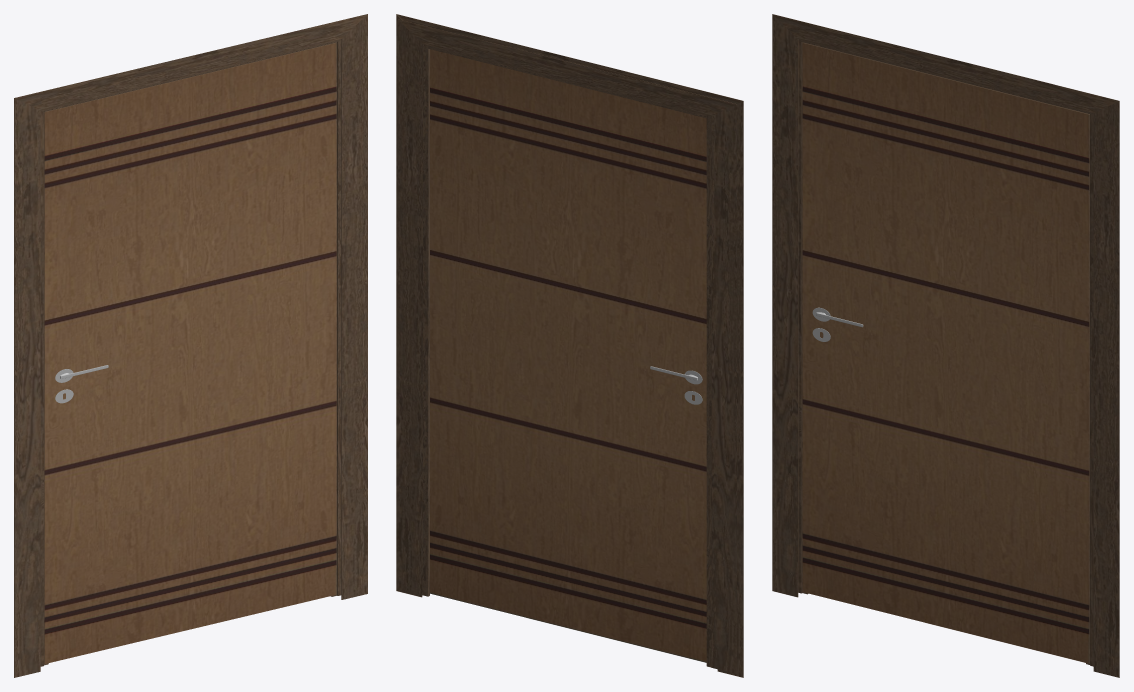
The model's file is door.glb.
3 views of the same model, side by side, from view 1: azimuth 30°, elevation 25°; view 2: azimuth 150°, elevation 25°; view 3: azimuth 330°, elevation 25° (orthographic).
Parts seen in each view (by area): view 1: POrta PB184, Cube.002, Cube.004, Cube.001, Cylinder002; view 2: POrta PB184, Cube.003, Cube.002, Cube.004, Cube.001, Cylinder002; view 3: POrta PB184, Cube.002, Cube.004, Cube.001.
Boxes of the visible parts, bbox=[...] form: POrta PB184: bbox=[44, 42, 336, 663]; Cube.002: bbox=[14, 14, 367, 677]; Cube.004: bbox=[40, 41, 341, 666]; Cube.001: bbox=[40, 39, 341, 111]; Cylinder002: bbox=[55, 365, 108, 403]; POrta PB184: bbox=[430, 49, 706, 662]; Cube.003: bbox=[397, 19, 736, 673]; Cube.002: bbox=[396, 14, 743, 677]; Cube.004: bbox=[423, 44, 711, 667]; Cube.001: bbox=[428, 45, 706, 118]; Cylinder002: bbox=[650, 366, 702, 404]; POrta PB184: bbox=[802, 42, 1090, 663]; Cube.002: bbox=[772, 14, 1119, 677]; Cube.004: bbox=[798, 41, 1093, 666]; Cube.001: bbox=[798, 39, 1093, 114].
Size of the model in its own units: 9.19 by 14.5 by 0.2234.
Materials: 6 (4 with a texture image).
